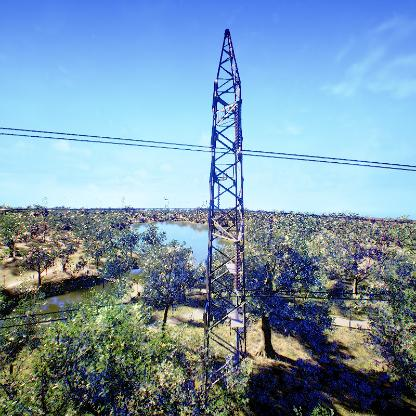tower: (200, 26, 252, 376)
